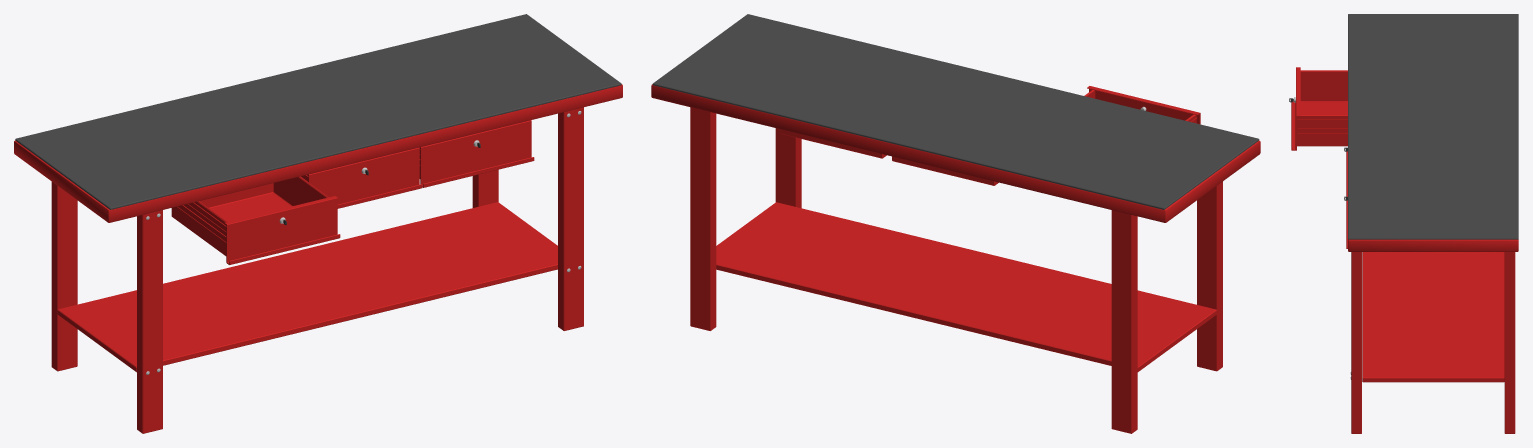
Rendered from Working_tool_table.fbx.
3 views of the same model, side by side, from view 1: azimuth 30°, elevation 25°; view 2: azimuth 150°, elevation 25°; view 3: azimuth 270°, elevation 25° (orthographic). The views are drawn at different scales.
Visible parts, largest first — view 1: ChamferBox01, Kover, Yaschik02, Yaschik01, Yaschik; view 2: ChamferBox01, Kover, Yaschik02; view 3: Kover, ChamferBox01, Yaschik02.
Boxes of the visible parts, bbox=[...] form: ChamferBox01: bbox=[14, 84, 622, 433]; Kover: bbox=[15, 14, 621, 209]; Yaschik02: bbox=[171, 176, 340, 264]; Yaschik01: bbox=[419, 120, 534, 187]; Yaschik: bbox=[300, 147, 422, 208]; ChamferBox01: bbox=[651, 84, 1260, 433]; Kover: bbox=[652, 14, 1259, 209]; Yaschik02: bbox=[1084, 86, 1200, 124]; Kover: bbox=[1348, 14, 1518, 239]; ChamferBox01: bbox=[1348, 239, 1518, 433]; Yaschik02: bbox=[1291, 67, 1347, 150].
Bounding box in the file's own units: 200 × 87.57 × 86.06.
